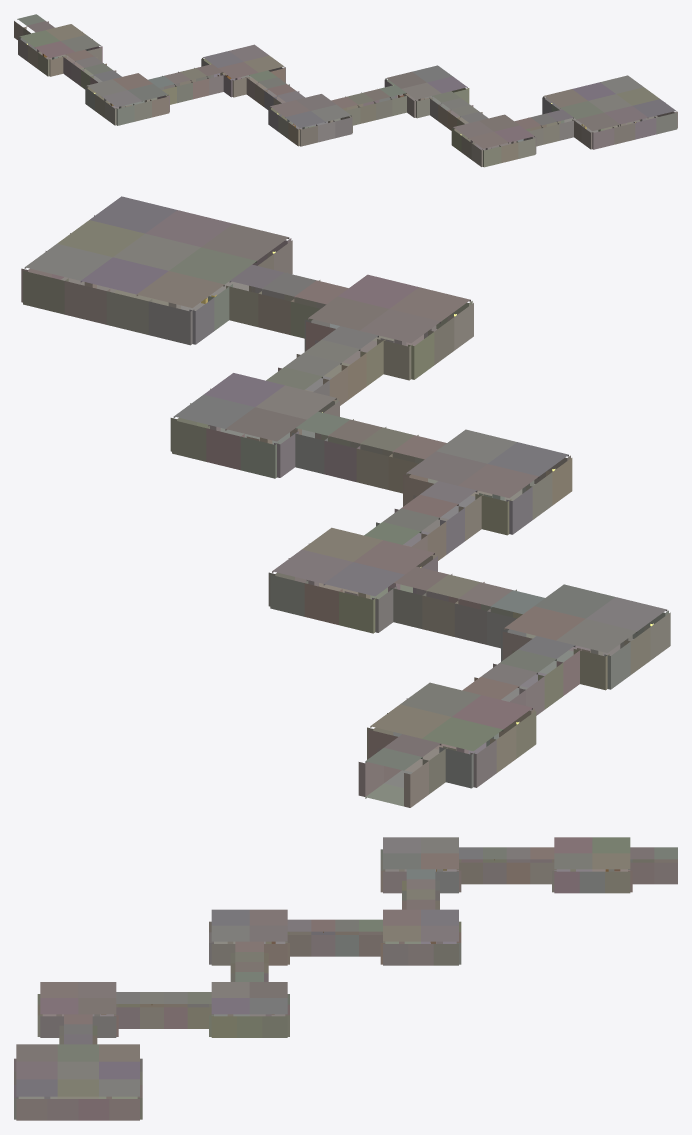
3 views of the same model, one above another, from view 1: azimuth 30°, elevation 25°; view 2: azimuth 150°, elevation 25°; view 3: azimuth 270°, elevation 25° (orthographic). The views are drawn at different scales.
Parts seen in each view (by area): view 1: Slab_228, Slab_234, Slab_226, Slab_229, Slab_233, Slab_230, Slab_232, Slab_227, Slab_231, Slab_5, Slab_116, Slab_42 (+45 smaller); view 2: Slab_226, Slab_232, Slab_227, Slab_229, Slab_228, Slab_233, Slab_234, Slab_231, Slab_230, Slab_43, Slab_75, Slab_150 (+43 smaller); view 3: Slab_231, Slab_230, Slab_229, Slab_227, Slab_228, Slab_233, Slab_234, Slab_226, Slab_232, Wall_244, Wall_245, Wall_246 (+54 smaller).
Boxes of the visible parts, x1=… form: Slab_228: x1=576, y1=112, x2=620, y2=131; Slab_234: x1=632, y1=99, x2=676, y2=117; Slab_226: x1=544, y1=89, x2=587, y2=107; Slab_229: x1=572, y1=82, x2=615, y2=100; Slab_233: x1=616, y1=87, x2=659, y2=105; Slab_230: x1=588, y1=94, x2=631, y2=112; Slab_232: x1=600, y1=75, x2=643, y2=93; Slab_227: x1=560, y1=101, x2=603, y2=119; Slab_231: x1=605, y1=106, x2=648, y2=124; Slab_5: x1=19, y1=30, x2=59, y2=47; Slab_116: x1=311, y1=104, x2=351, y2=121; Slab_42: x1=101, y1=90, x2=142, y2=107; Slab_226: x1=136, y1=271, x2=224, y2=307; Slab_232: x1=24, y1=243, x2=112, y2=280; Slab_227: x1=169, y1=247, x2=256, y2=284; Slab_229: x1=80, y1=257, x2=168, y2=294; Slab_228: x1=201, y1=223, x2=289, y2=260; Slab_233: x1=57, y1=220, x2=144, y2=257; Slab_234: x1=90, y1=196, x2=176, y2=233; Slab_231: x1=145, y1=210, x2=232, y2=246; Slab_230: x1=113, y1=233, x2=200, y2=270; Slab_43: x1=504, y1=606, x2=585, y2=640; Slab_75: x1=323, y1=562, x2=404, y2=596; Slab_150: x1=225, y1=407, x2=306, y2=441; Slab_231: x1=16, y1=1061, x2=57, y2=1079; Slab_230: x1=57, y1=1061, x2=98, y2=1079; Slab_229: x1=99, y1=1061, x2=139, y2=1079; Slab_227: x1=57, y1=1044, x2=98, y2=1061; Slab_228: x1=16, y1=1044, x2=57, y2=1061; Slab_233: x1=57, y1=1079, x2=98, y2=1096; Slab_234: x1=16, y1=1079, x2=57, y2=1096; Slab_226: x1=99, y1=1044, x2=139, y2=1061; Slab_232: x1=99, y1=1079, x2=139, y2=1096; Wall_244: x1=78, y1=1099, x2=109, y2=1120; Wall_245: x1=47, y1=1099, x2=78, y2=1120; Wall_246: x1=16, y1=1099, x2=47, y2=1120.
Bounding box in the file's own units: 130 × 5.6 × 140.
